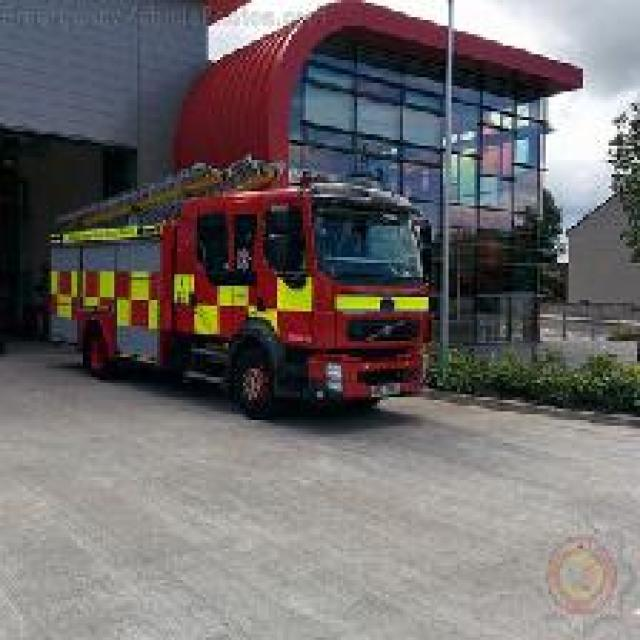Fire-truck: (40, 151, 434, 420)
